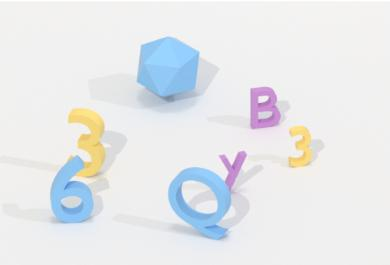0-TronCanh: (132, 34, 204, 103)
3: (60, 104, 108, 179), (285, 123, 316, 174)
6: (46, 152, 96, 226)
B: (246, 81, 284, 132)
Q: (163, 164, 233, 243)
y: (216, 148, 249, 197)
